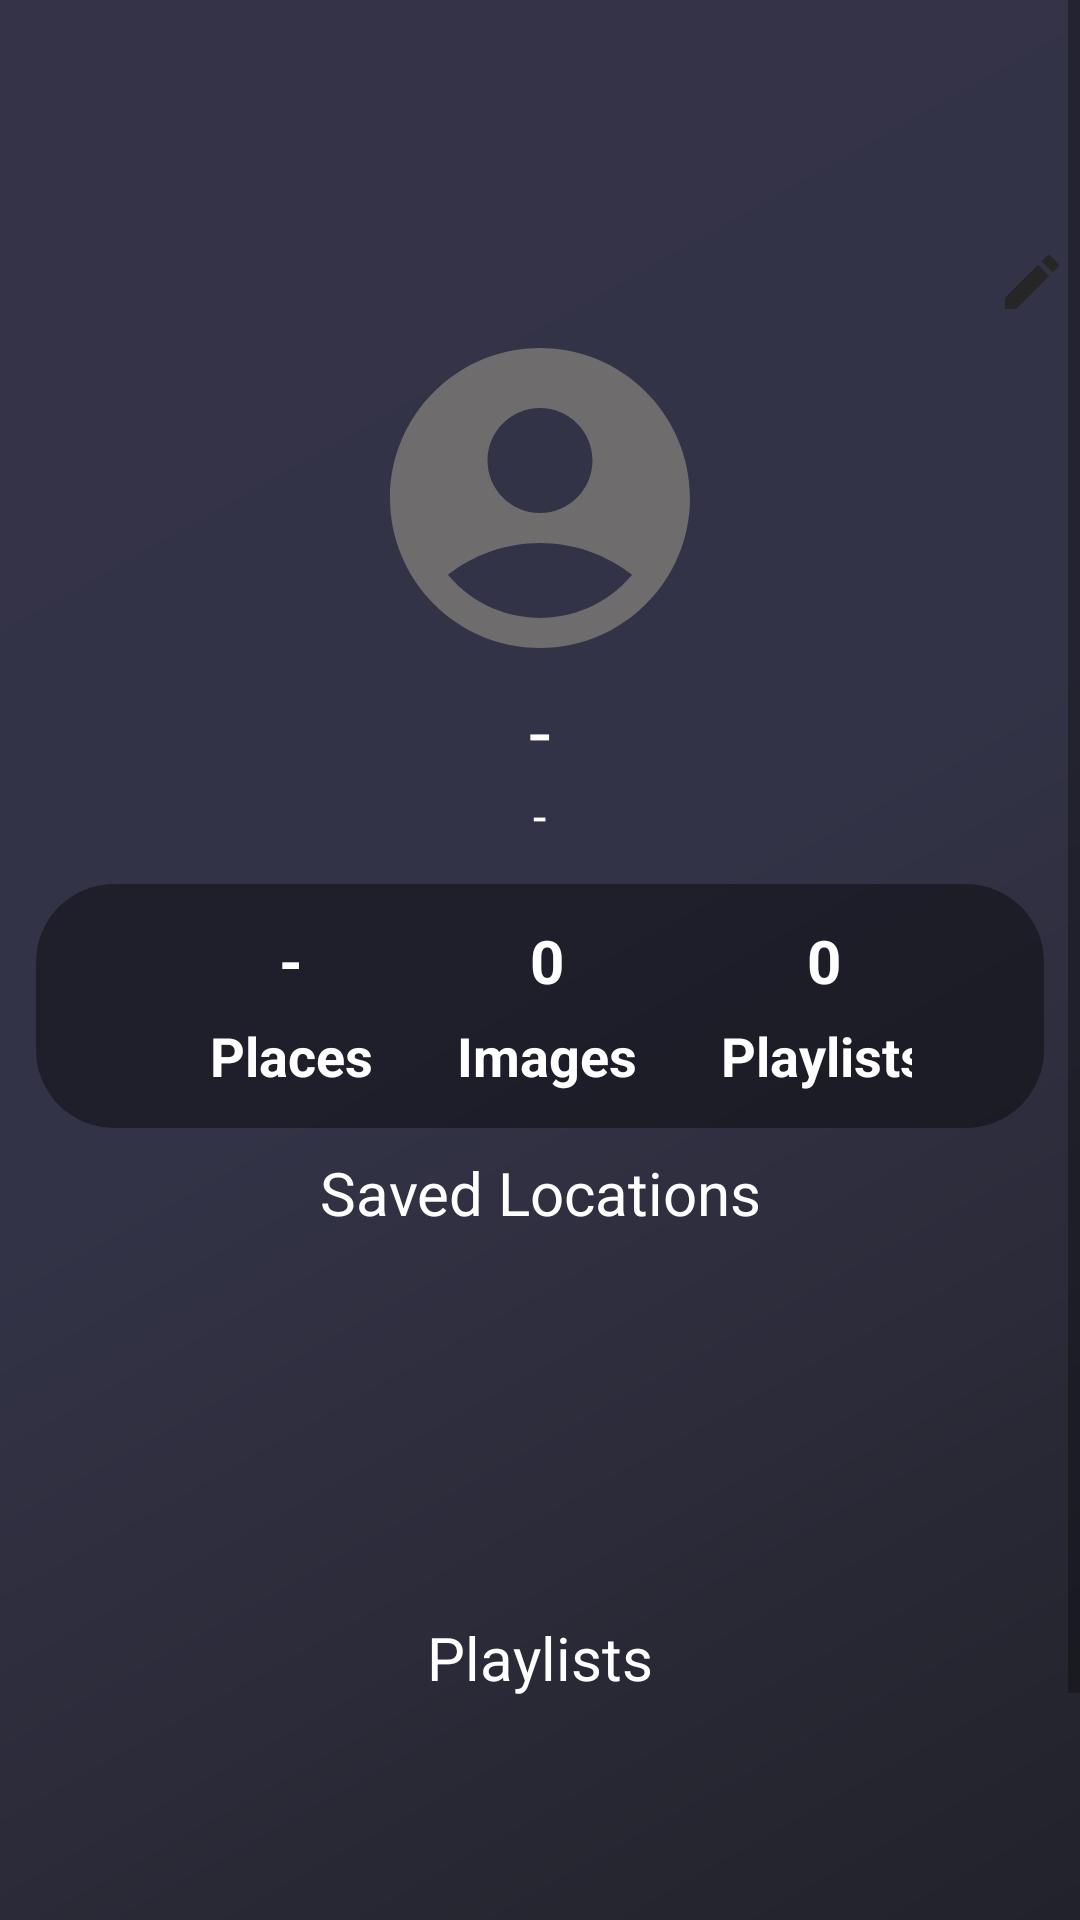

Icon bounding boxes for this 1080px x 1920px phone screenshot, format box(x1, y1, x2, y2):
Users profile picture: box(390, 348, 690, 648)
